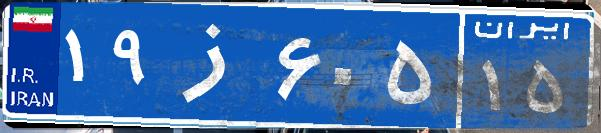0: (330, 28, 385, 110)
1: (57, 26, 110, 107), (475, 38, 525, 113)
5: (385, 28, 445, 110), (525, 38, 570, 115)
6: (273, 28, 330, 110)
9: (110, 28, 158, 105)
ز: (158, 15, 273, 115)
